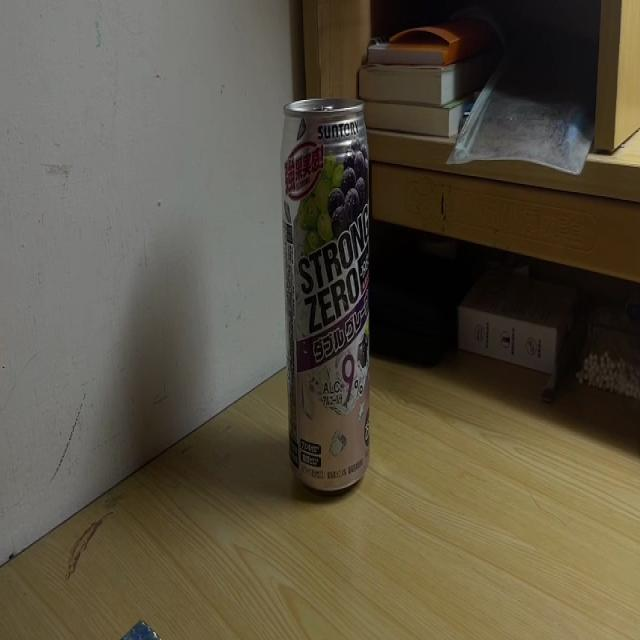Liquor: (280, 92, 372, 498)
